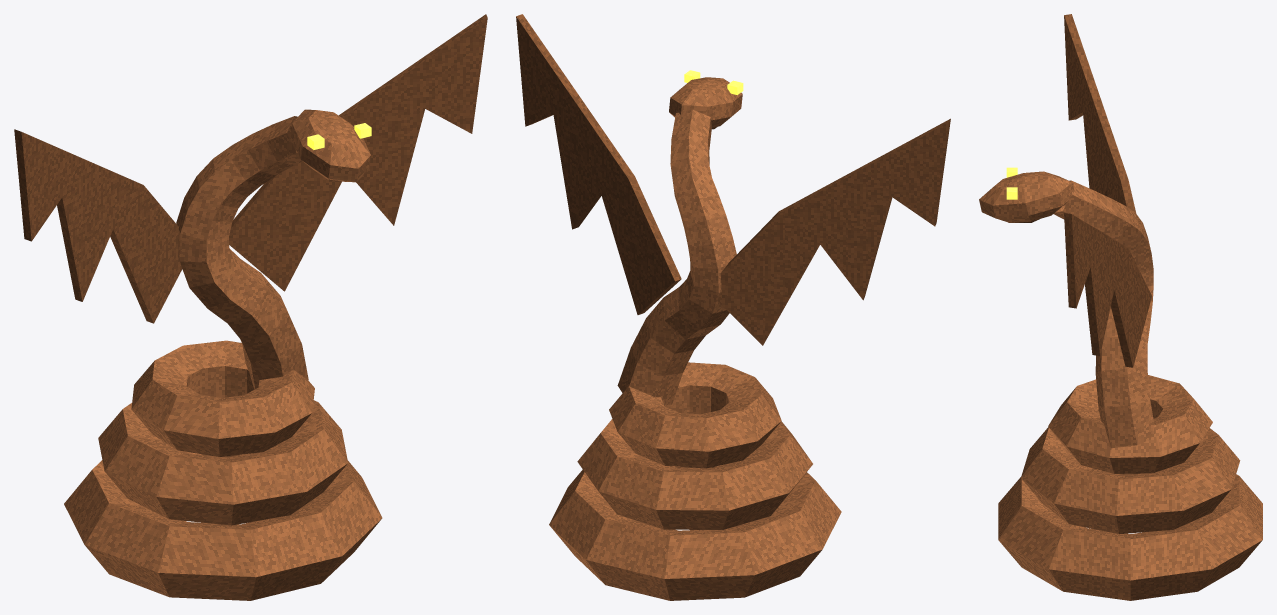
The model's file is 06-winged-snake.glb.
The picture shows the model from 3 angles, left to right: view 1: azimuth 30°, elevation 25°; view 2: azimuth 150°, elevation 25°; view 3: azimuth 270°, elevation 25°; orthographic projection. The views are drawn at different scales.
Parts seen in each view (by area): view 1: Coil 0, Wing 1, Coil 1, Body.003, Wing -1, Coil 2, Head.001; view 2: Coil 0, Wing -1, Wing 1, Coil 1, Body.003, Coil 2, Head.001; view 3: Coil 0, Coil 1, Body.003, Coil 2, Wing 1, Wing -1, Head.001.
Part boxes in pixels (left/top/right/bottom): Coil 0: left=64, top=452, right=382, bottom=600; Wing 1: left=229, top=14, right=487, bottom=291; Coil 1: left=98, top=400, right=347, bottom=525; Body.003: left=176, top=116, right=308, bottom=389; Wing -1: left=14, top=129, right=182, bottom=323; Coil 2: left=131, top=340, right=314, bottom=456; Head.001: left=290, top=109, right=370, bottom=182; Coil 0: left=549, top=464, right=841, bottom=600; Wing -1: left=706, top=118, right=950, bottom=345; Wing 1: left=516, top=14, right=681, bottom=314; Coil 1: left=577, top=419, right=812, bottom=529; Body.003: left=617, top=109, right=736, bottom=405; Coil 2: left=609, top=362, right=781, bottom=468; Head.001: left=669, top=77, right=742, bottom=127; Coil 0: left=998, top=469, right=1262, bottom=600; Coil 1: left=1021, top=427, right=1240, bottom=534; Body.003: left=1054, top=180, right=1154, bottom=448; Coil 2: left=1048, top=375, right=1212, bottom=473; Wing 1: left=1064, top=213, right=1151, bottom=367; Wing -1: left=1064, top=14, right=1136, bottom=213; Head.001: left=979, top=171, right=1074, bottom=222.
Bounding box in the file's own units: 0.3435 × 0.3487 × 0.206.
4 materials, 4 textured.
